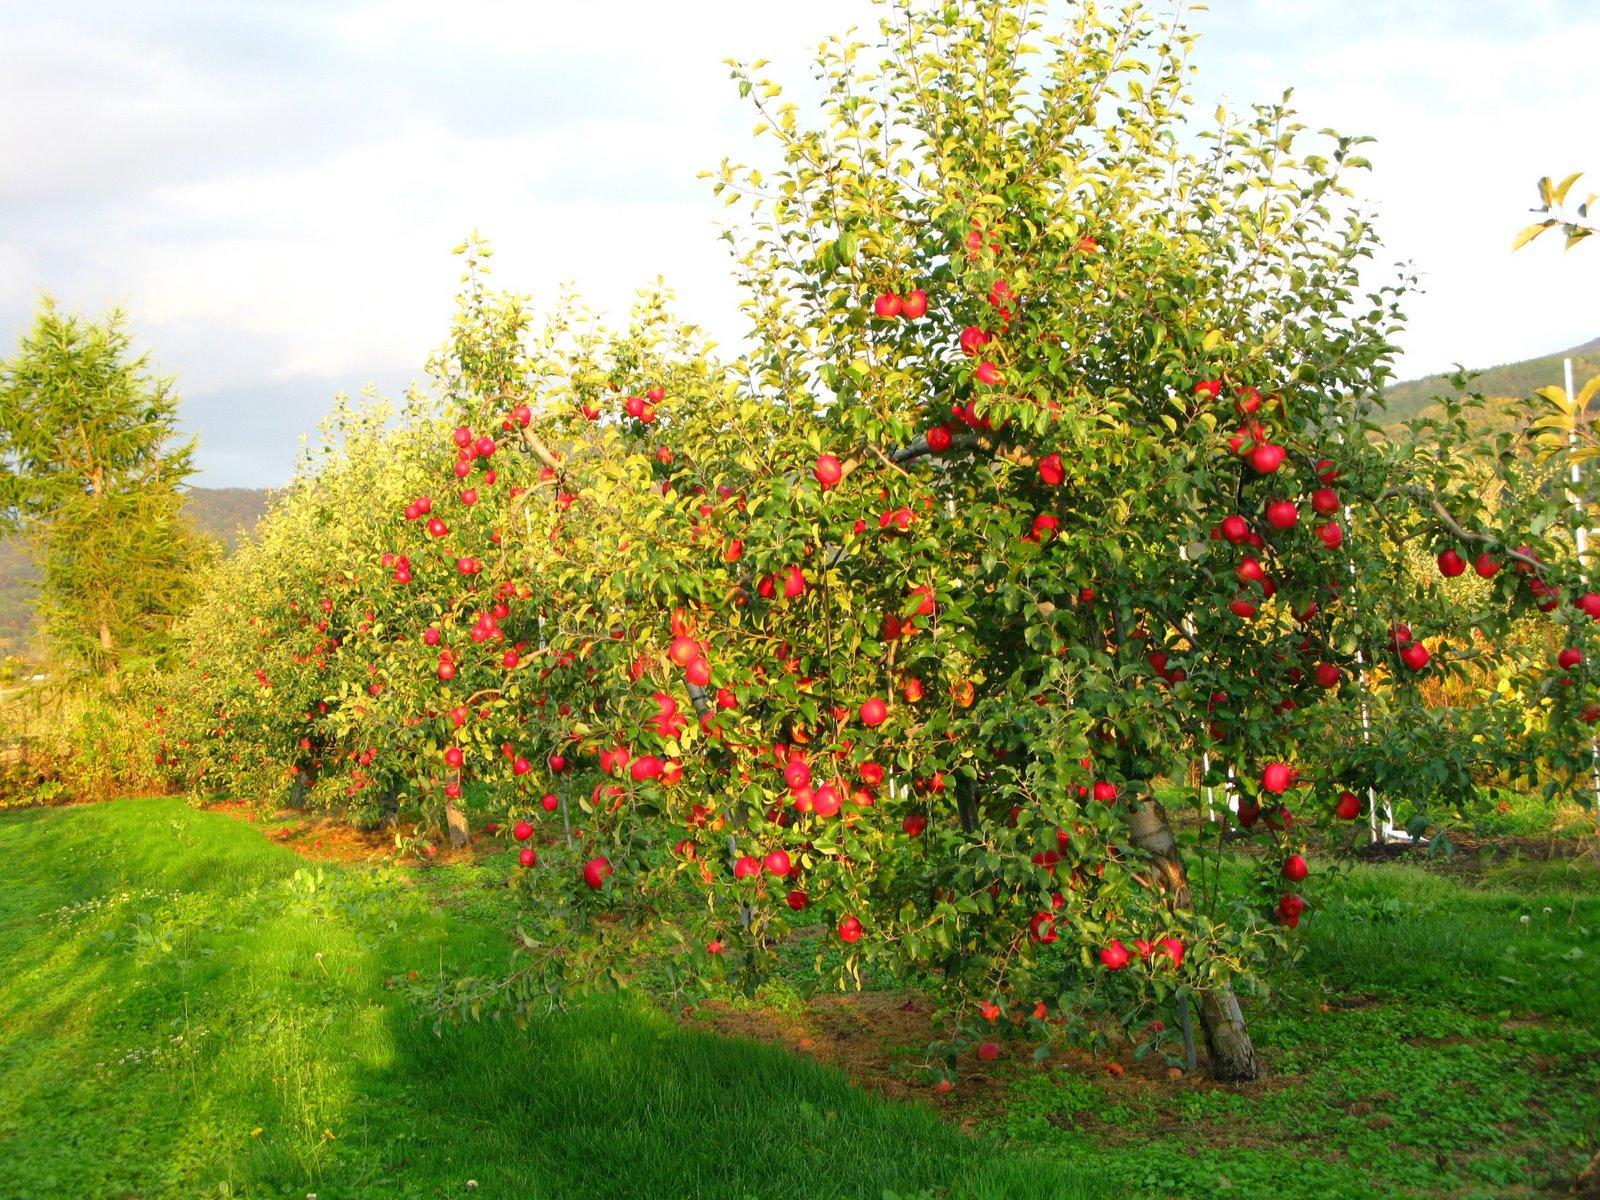apple: (813, 453, 844, 487), (1267, 499, 1301, 529), (669, 637, 702, 666), (782, 759, 813, 789), (1221, 514, 1250, 546), (860, 696, 888, 729), (1311, 488, 1340, 516), (687, 659, 716, 686), (1279, 894, 1305, 918)
